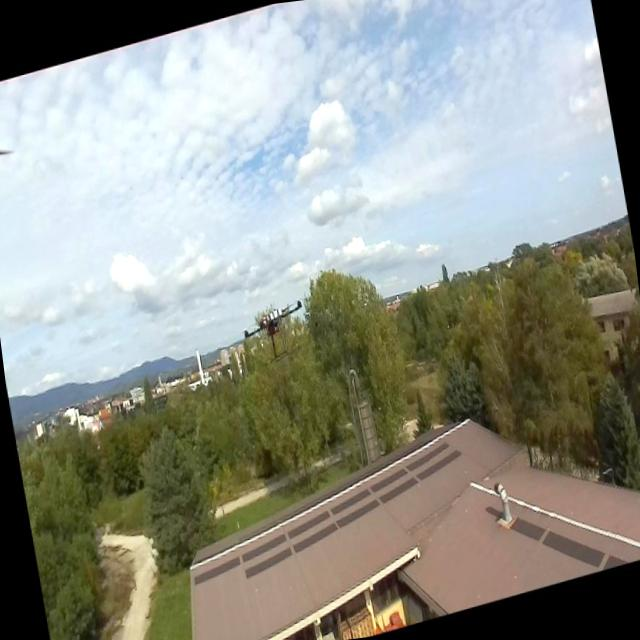drone: (238, 288, 311, 366)
